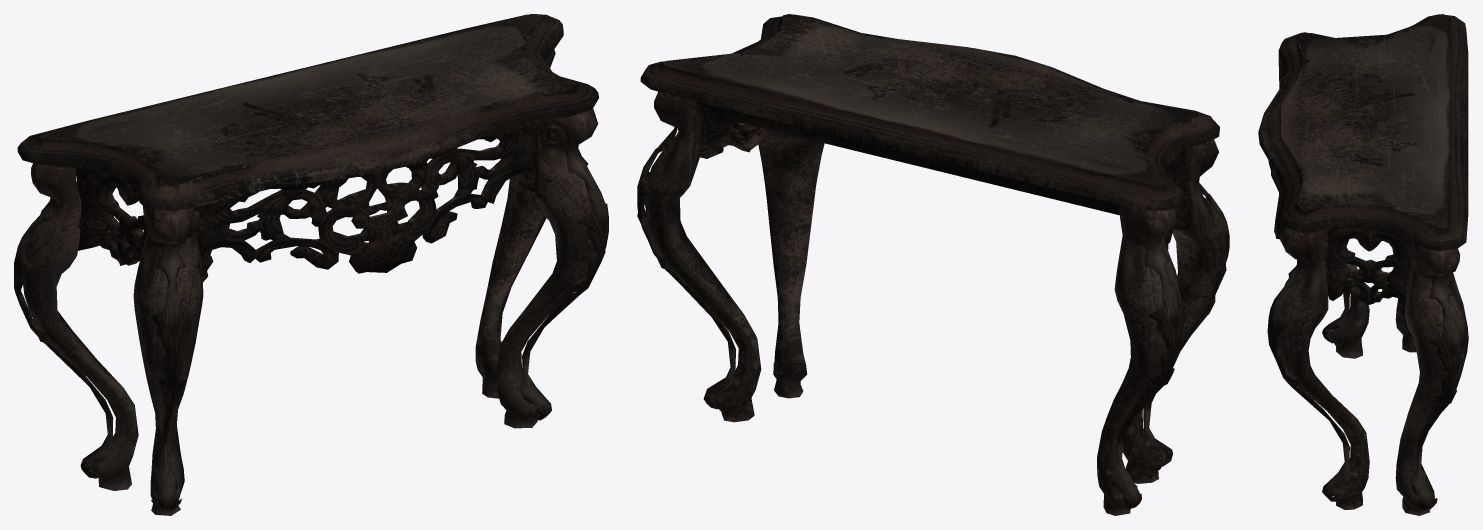
Rendered from ClassicConsole_01_lod1.glb.
3 renders of one model, left to right at view 1: azimuth 30°, elevation 25°; view 2: azimuth 150°, elevation 25°; view 3: azimuth 270°, elevation 25°, orthographic. The views are drawn at different scales.
Parts seen in each view (by area): view 1: ClassicConsole_01; view 2: ClassicConsole_01; view 3: ClassicConsole_01.
Boxes of the visible parts, <box> form: ClassicConsole_01: <box>14,14,608,515</box>; ClassicConsole_01: <box>637,14,1229,515</box>; ClassicConsole_01: <box>1258,14,1468,515</box>.
Bounding box in the file's own units: 1.54 × 0.9491 × 0.5893.
Materials: 1 (1 with a texture image).
